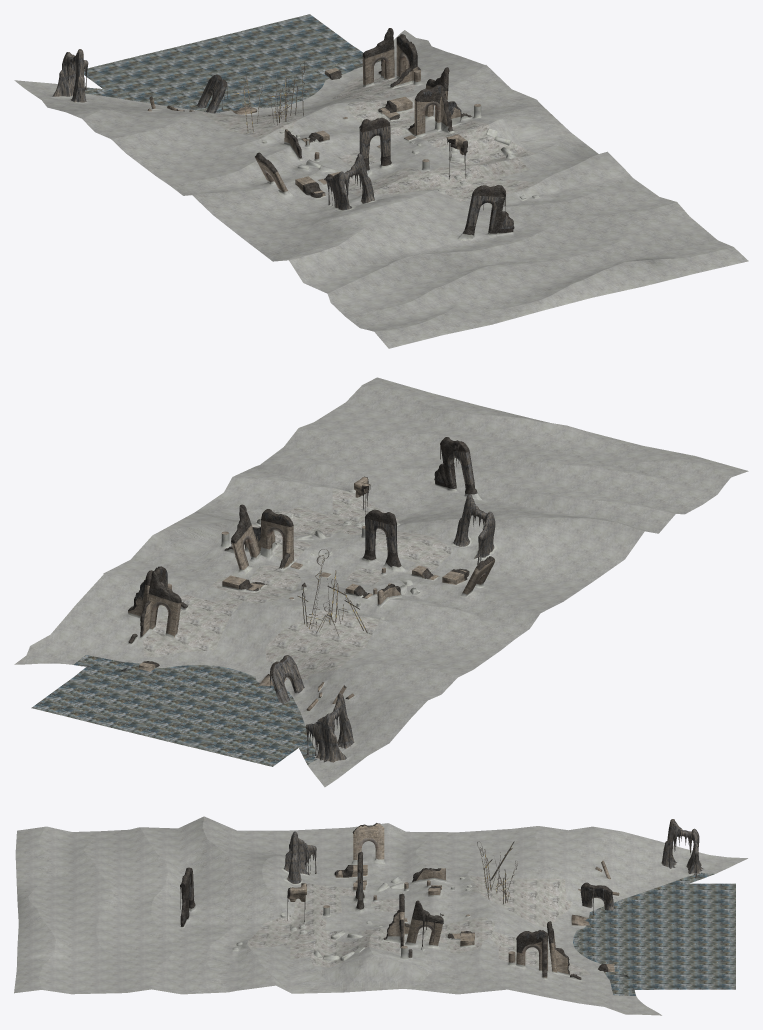
3 renders of one model, top to bottom at view 1: azimuth 30°, elevation 25°; view 2: azimuth 150°, elevation 25°; view 3: azimuth 270°, elevation 25°, orthographic. The views are drawn at different scales.
Visible parts, largest first — view 1: 02_-_Default, Material_#29, Material_#30, Material_#28, Material_#32, Material_#117; view 2: 02_-_Default, Material_#29, Material_#30, Material_#28, Material_#32, Material_#117; view 3: 02_-_Default, Material_#29, Material_#30, Material_#28, Material_#32, Material_#117.
Part boxes in pixels (x1,y1,x2,y2): 02_-_Default: [14, 14, 748, 348]; Material_#29: [255, 37, 514, 239]; Material_#30: [52, 49, 512, 228]; Material_#28: [66, 28, 514, 235]; Material_#32: [147, 59, 539, 199]; Material_#117: [233, 61, 306, 132]; 02_-_Default: [14, 377, 748, 787]; Material_#29: [128, 440, 494, 671]; Material_#30: [271, 451, 495, 762]; Material_#28: [128, 437, 494, 756]; Material_#32: [149, 488, 485, 710]; Material_#117: [297, 549, 367, 636]; 02_-_Default: [14, 816, 747, 1015]; Material_#29: [180, 823, 614, 980]; Material_#30: [183, 819, 703, 921]; Material_#28: [180, 823, 697, 978]; Material_#32: [233, 848, 619, 971]; Material_#117: [477, 841, 517, 904].
Bounding box in the file's own units: 177 × 40.95 × 330.
